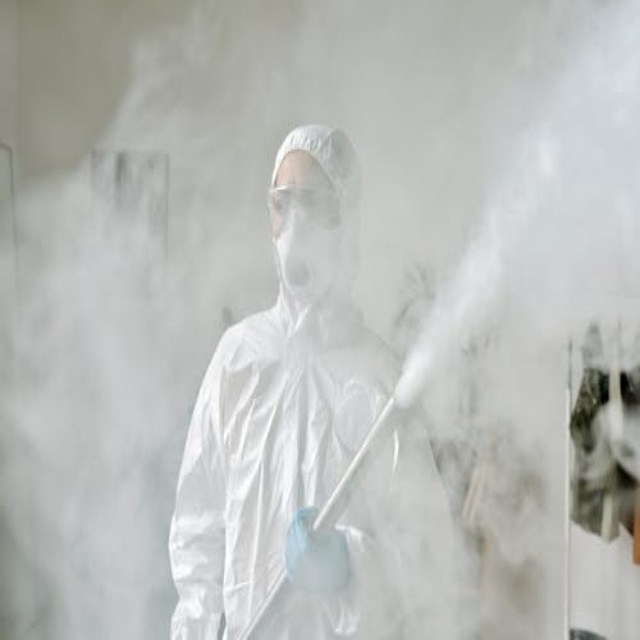Gafas: (269, 186, 340, 230)
Guantes: (285, 506, 349, 594)
Mascara: (272, 203, 342, 306)
